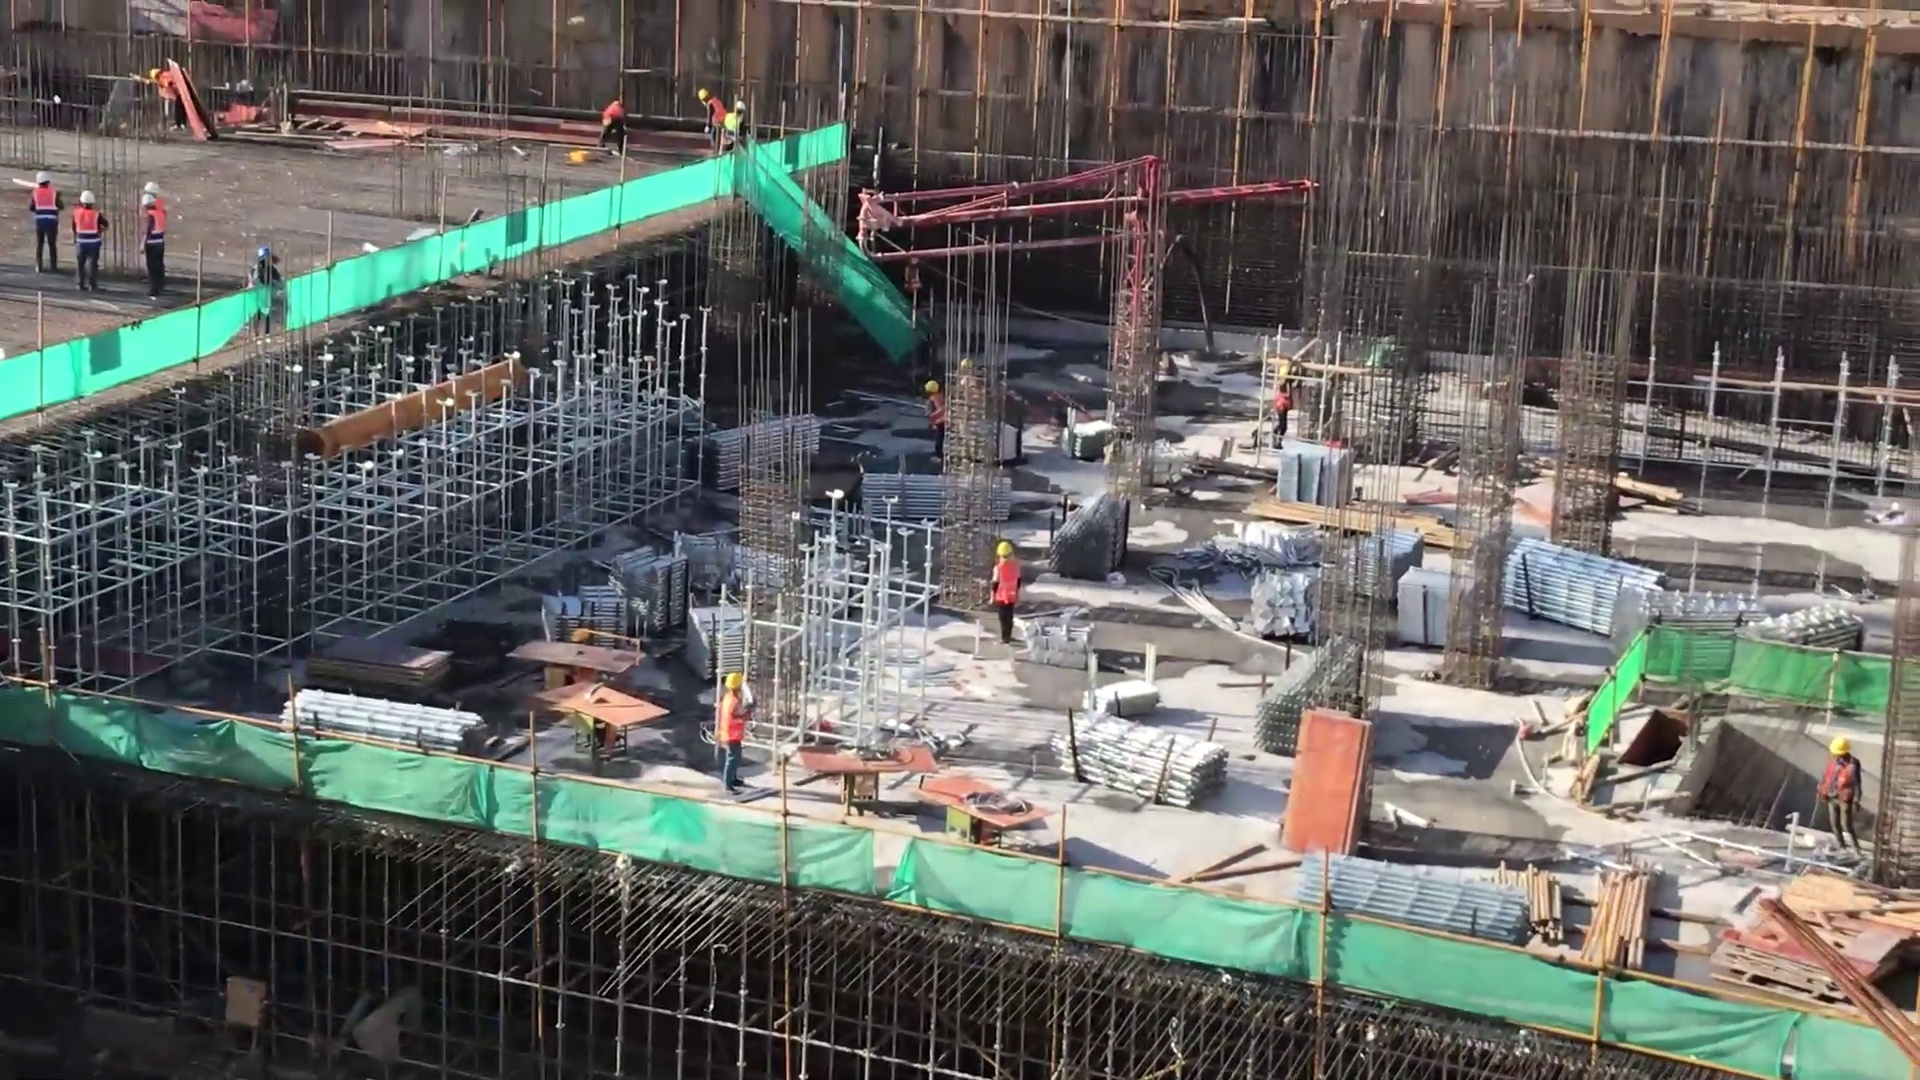board: (799, 737, 1055, 852), (1277, 690, 1378, 871), (508, 631, 655, 750)
helmet: (989, 532, 1019, 568), (1821, 730, 1853, 756), (917, 373, 943, 402), (695, 85, 716, 116), (32, 165, 55, 192), (719, 676, 747, 700), (1272, 362, 1295, 387), (731, 101, 751, 123), (253, 245, 273, 265), (142, 177, 159, 196), (80, 189, 96, 209)
person: (1816, 730, 1870, 859), (713, 668, 757, 799), (979, 535, 1029, 648), (27, 167, 63, 274), (136, 195, 167, 299), (75, 186, 105, 291), (923, 376, 953, 465), (594, 95, 635, 153), (149, 66, 184, 129), (1270, 361, 1293, 449), (692, 88, 725, 146), (244, 244, 284, 289), (722, 100, 754, 153)
scaffold: (1310, 844, 1504, 949), (1058, 696, 1212, 812), (280, 685, 473, 775), (1630, 585, 1840, 653), (1511, 538, 1645, 637), (700, 418, 836, 497), (595, 524, 691, 623), (1048, 485, 1141, 570), (1054, 400, 1127, 460)
vest: (1822, 760, 1854, 822), (717, 690, 746, 743), (71, 206, 107, 247), (994, 566, 1021, 607), (31, 189, 59, 225), (140, 205, 163, 243), (1268, 390, 1291, 424), (603, 105, 628, 128)
wood: (1496, 859, 1664, 970), (1240, 476, 1463, 557)
